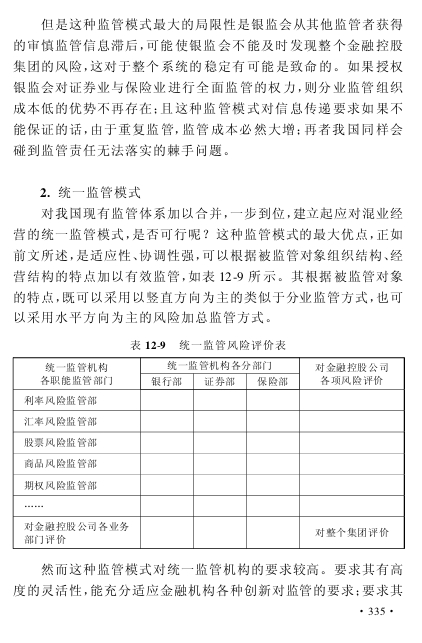table: (12, 357, 405, 549)
